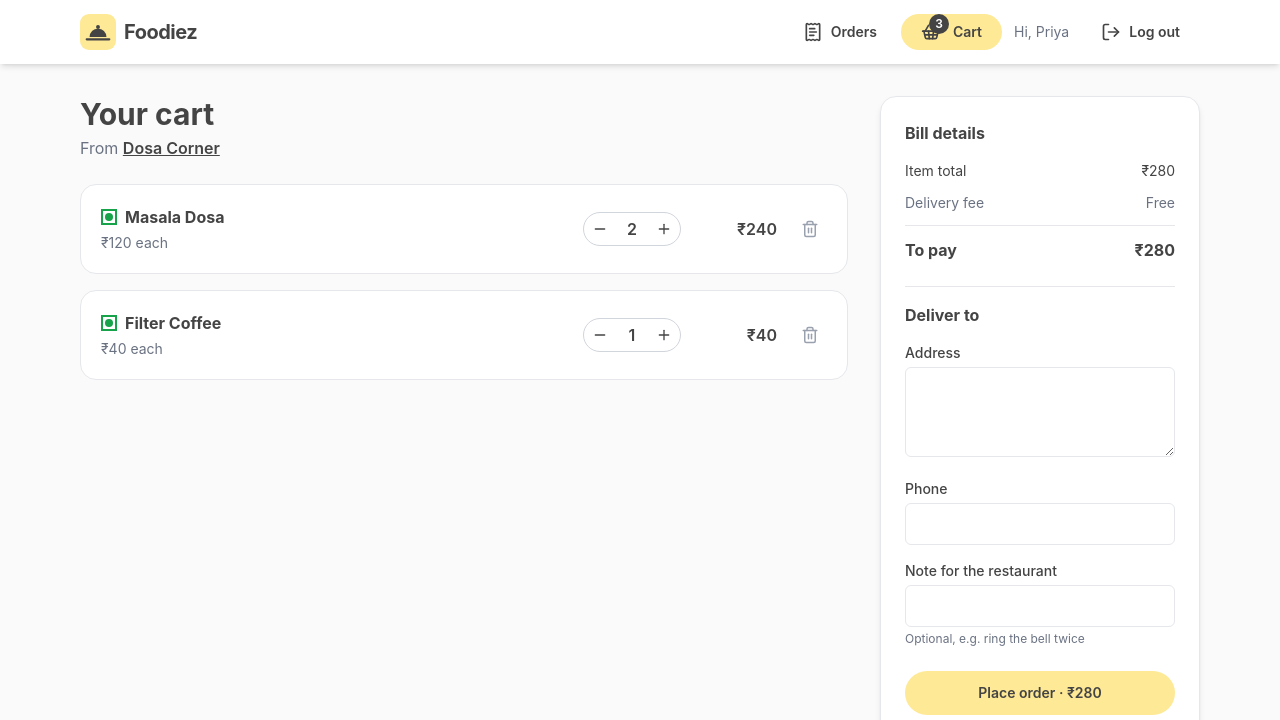
Scenario: cart page › shows the bill, asks where to deliver, and places the order
Expected: the heading "Masala Dosa" is shown, x1=125 y1=205 x2=224 y2=229
Expected: the text "₹280" in the row of "To pay" is shown, x1=1135 y1=240 x2=1175 y2=260
Type "Flat 302, Lakeview Apartments, Koramangala" into the text box labelled "Address" at (1040, 412), box x1=905 y1=367 x2=1175 y2=457
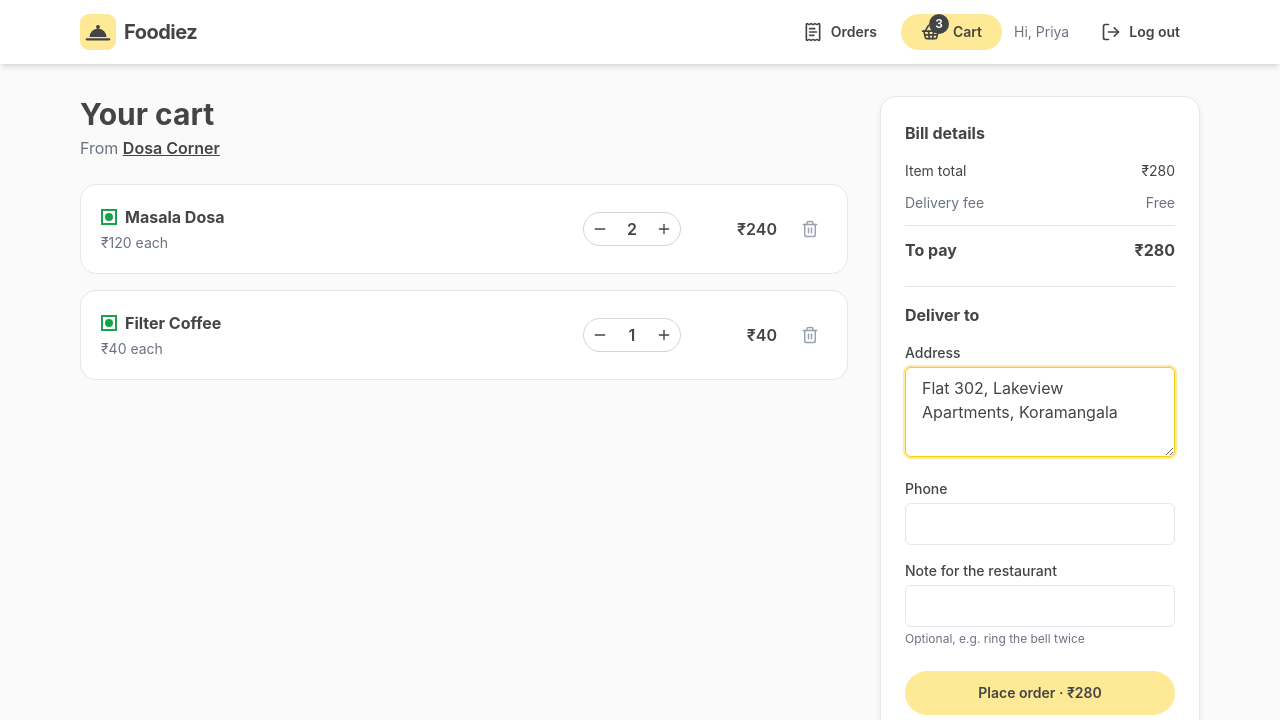
Type "+91 98450 12345" into the field labelled "Phone" at (1040, 524), box x1=905 y1=503 x2=1175 y2=545
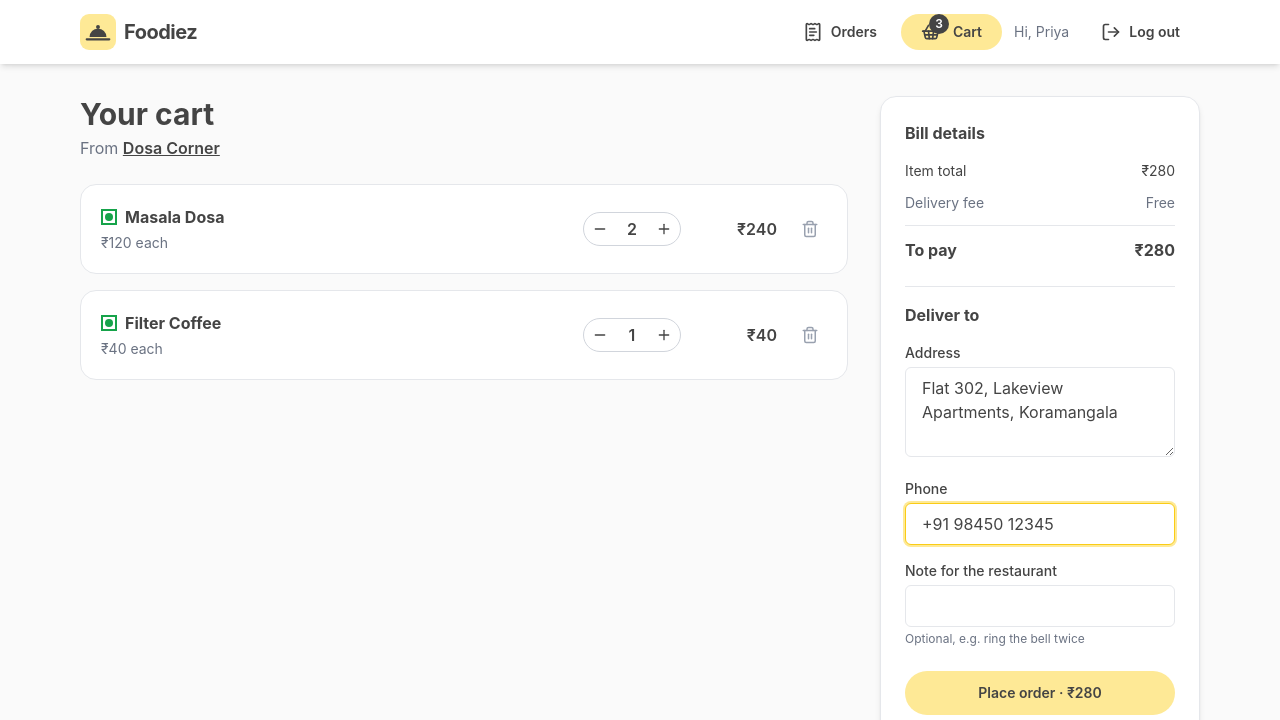
Click the button "Place order · ₹280" at (1040, 693), box x1=905 y1=671 x2=1175 y2=715
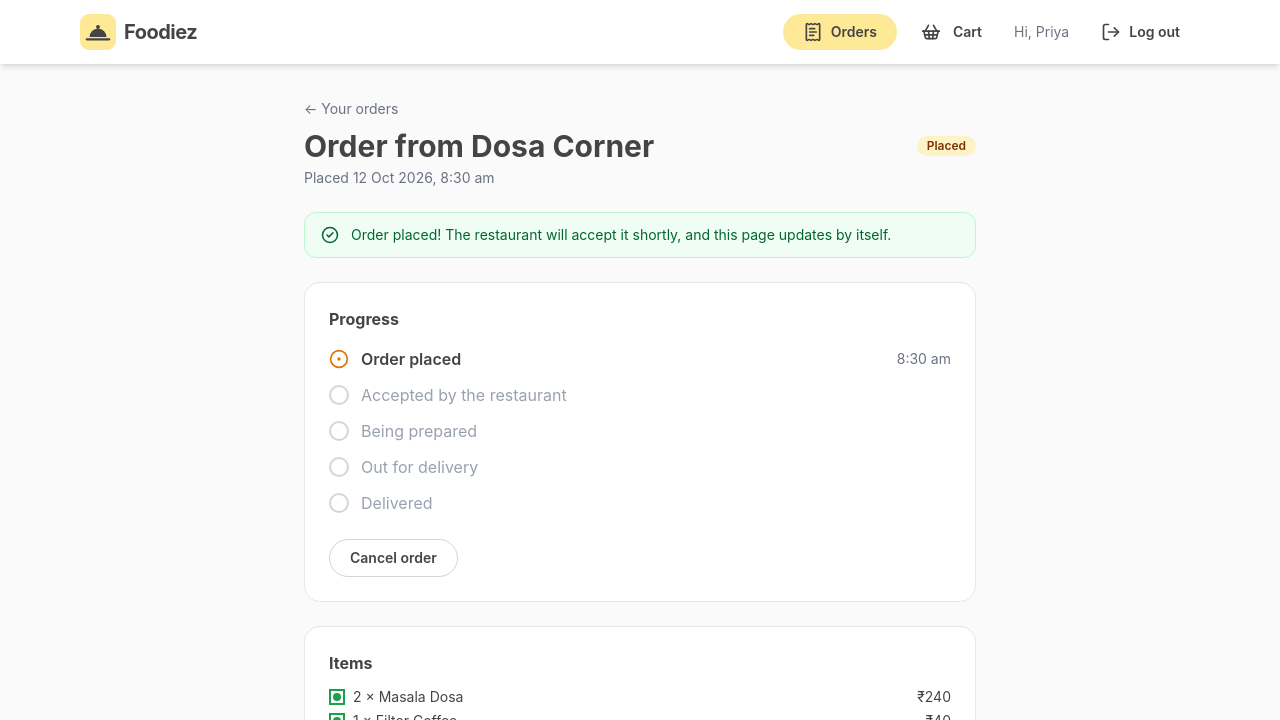
Result: the text "Order placed!" is shown at x1=351 y1=226 x2=891 y2=243
Result: the text "2 × Masala Dosa" is shown at x1=329 y1=687 x2=463 y2=707
